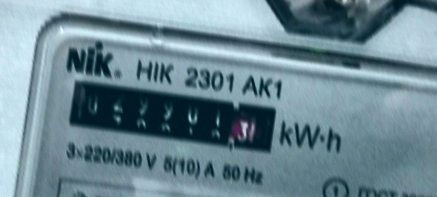0: (184, 100, 203, 127), (84, 92, 102, 115)
1: (211, 103, 227, 129)
2: (110, 90, 128, 114)
3: (235, 119, 253, 144)
9: (161, 98, 176, 123), (136, 94, 151, 116)
screen: (60, 72, 287, 164)
